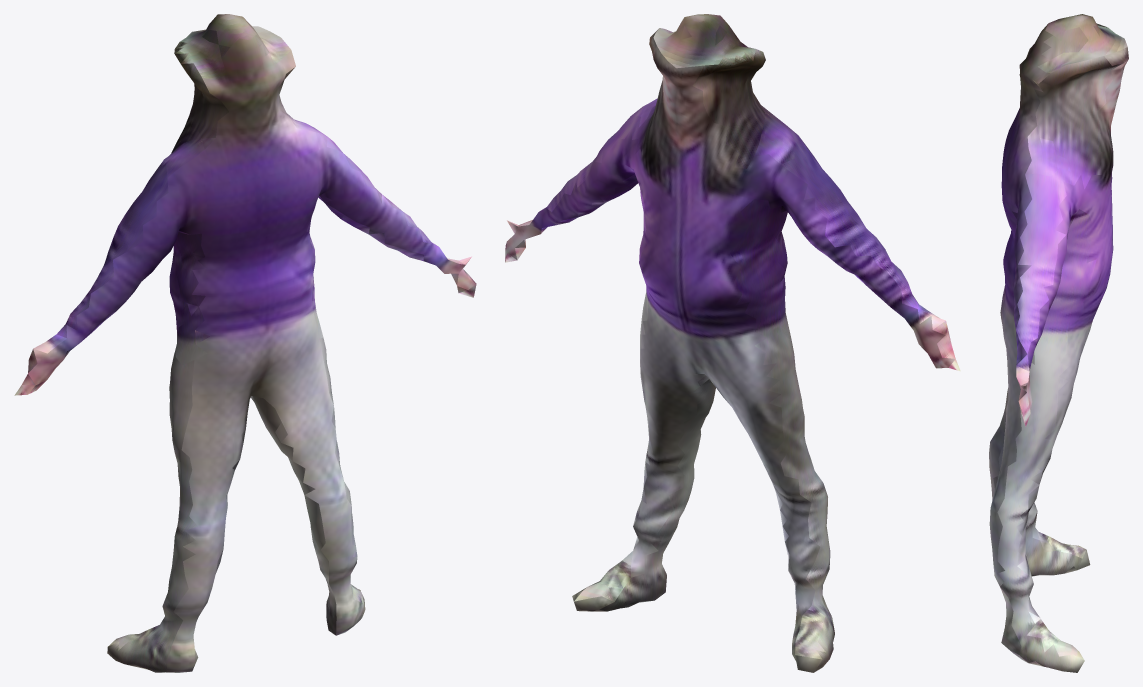
3 renders of one model, left to right at view 1: azimuth 30°, elevation 25°; view 2: azimuth 150°, elevation 25°; view 3: azimuth 270°, elevation 25°, orthographic. The views are drawn at different scales.
Parts seen in each view (by area): view 1: world; view 2: world; view 3: world.
Part boxes in pixels (<box>): world: <box>14,14,476,672</box>; world: <box>505,14,960,672</box>; world: <box>989,14,1128,672</box>.
Size of the model in its own units: 0.7815 by 1.01 by 0.2135.
Materials: 1 (1 with a texture image).
